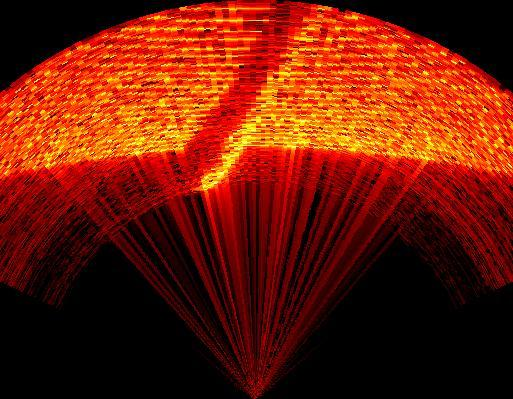pipe: (180, 4, 314, 184)
